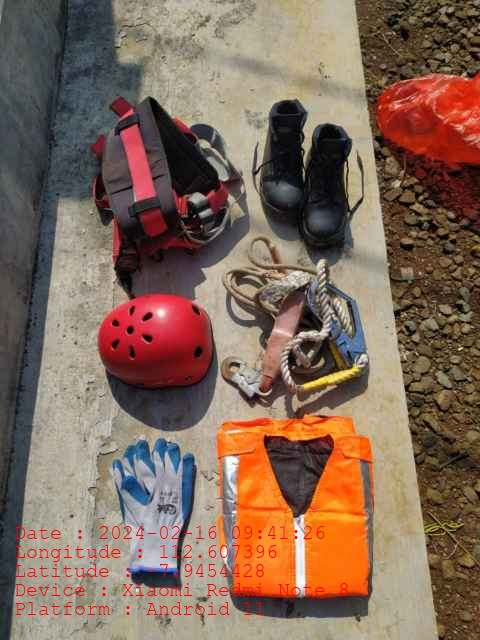HELM: (95, 292, 212, 388)
SEPATU: (260, 98, 352, 252)
TAMBANG_SLING: (222, 258, 368, 404)
